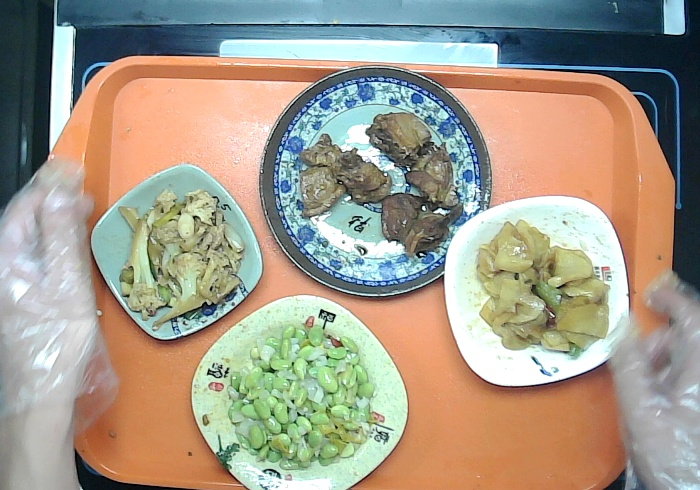NLDX-Bai_Se_Xiao_Fang_Die: (440, 193, 634, 392)
NLDX-Fu_Zi_Fang_Die: (185, 289, 413, 490)
NLDX-Qing_Hua_Xiao_Fang_Die: (87, 160, 266, 346)
NLDX-Qing_Hua_Yuan_Die: (251, 59, 497, 304)
